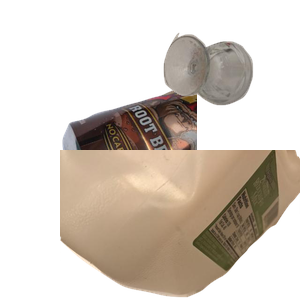glass: (161, 30, 300, 128)
metal: (60, 79, 300, 259)
plastic: (60, 150, 300, 300)
trash: (96, 181, 277, 300)
